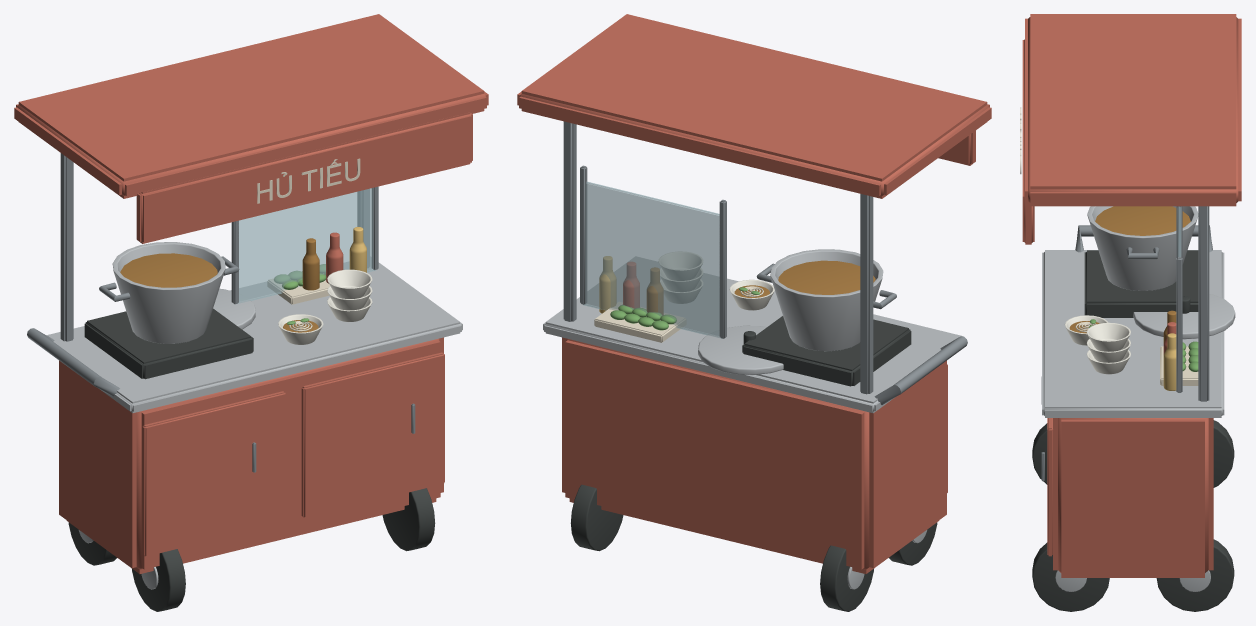
Rendered from HuTieuCart.glb.
3 views of the same model, side by side, from view 1: azimuth 30°, elevation 25°; view 2: azimuth 150°, elevation 25°; view 3: azimuth 270°, elevation 25° (orthographic).
Parts seen in each view (by area): view 1: ST_HuTieuCart_ST_red.001, ST_HuTieuCart_ST_steel.001, ST_HuTieuCart_ST_black.001, ST_Prep_Glass.001, ST_HuTieuCart_PBK_Indochine_metal.001, ST_HuTieuCart_ST_broth.001, ST_HuTieuCart_ST_white.001, ST_HuTieuCart_ST_cream.001, ST_Condiment.001; view 2: ST_HuTieuCart_ST_red.001, ST_HuTieuCart_ST_steel.001, ST_Prep_Glass.001, ST_HuTieuCart_ST_black.001, ST_HuTieuCart_PBK_Indochine_metal.001, ST_HuTieuCart_ST_broth.001, ST_HuTieuCart_ST_white.001, ST_HuTieuCart_ST_cream.001, ST_HuTieuCart_ST_leaf.001, ST_Condiment.001; view 3: ST_HuTieuCart_ST_red.001, ST_HuTieuCart_ST_steel.001, ST_HuTieuCart_ST_black.001, ST_HuTieuCart_PBK_Indochine_metal.001, ST_HuTieuCart_ST_broth.001, ST_HuTieuCart_ST_white.001, ST_HuTieuCart_ST_cream.001, ST_Condiment.001, ST_HuTieuCart_ST_leaf.001.
Boxes of the visible parts, x1,y1,x2,y2 form: ST_HuTieuCart_ST_red.001: [14, 14, 488, 573]; ST_HuTieuCart_ST_steel.001: [46, 242, 462, 589]; ST_HuTieuCart_ST_black.001: [68, 308, 435, 611]; ST_Prep_Glass.001: [236, 188, 375, 304]; ST_HuTieuCart_PBK_Indochine_metal.001: [27, 153, 415, 472]; ST_HuTieuCart_ST_broth.001: [120, 238, 319, 332]; ST_HuTieuCart_ST_white.001: [278, 269, 372, 344]; ST_HuTieuCart_ST_cream.001: [257, 158, 360, 331]; ST_Condiment.001: [349, 227, 366, 272]; ST_HuTieuCart_ST_red.001: [517, 14, 991, 573]; ST_HuTieuCart_ST_steel.001: [543, 249, 963, 589]; ST_Prep_Glass.001: [583, 181, 722, 338]; ST_HuTieuCart_ST_black.001: [570, 316, 937, 611]; ST_HuTieuCart_PBK_Indochine_metal.001: [563, 121, 967, 404]; ST_HuTieuCart_ST_broth.001: [646, 260, 875, 314]; ST_HuTieuCart_ST_white.001: [658, 251, 774, 310]; ST_HuTieuCart_ST_cream.001: [594, 286, 763, 342]; ST_HuTieuCart_ST_leaf.001: [610, 287, 759, 330]; ST_Condiment.001: [599, 256, 616, 313]; ST_HuTieuCart_ST_red.001: [1022, 14, 1241, 577]; ST_HuTieuCart_ST_steel.001: [1042, 206, 1235, 591]; ST_HuTieuCart_ST_black.001: [1032, 250, 1234, 611]; ST_HuTieuCart_PBK_Indochine_metal.001: [1041, 206, 1212, 481]; ST_HuTieuCart_ST_broth.001: [1069, 206, 1190, 343]; ST_HuTieuCart_ST_white.001: [1065, 315, 1130, 374]; ST_HuTieuCart_ST_cream.001: [1020, 107, 1198, 385]; ST_Condiment.001: [1163, 333, 1176, 390]; ST_HuTieuCart_ST_leaf.001: [1088, 319, 1198, 371].
Bounding box in the file's own units: 1.72 × 2.04 × 0.9085.
